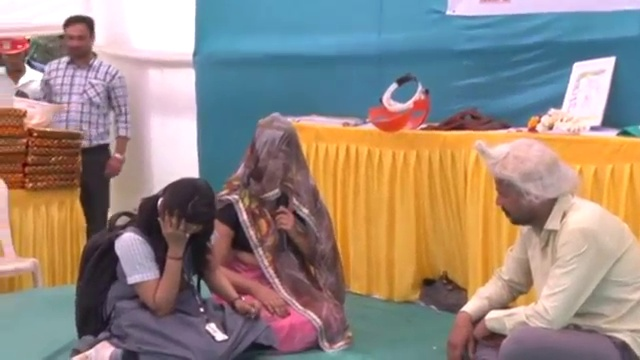helmet: (12, 95, 68, 129), (1, 35, 34, 59)
helmet_off: (486, 145, 572, 236), (145, 181, 213, 244), (244, 117, 302, 189), (51, 13, 98, 59)
helmet_on: (0, 34, 34, 73)
person: (449, 139, 640, 360), (204, 117, 345, 348), (64, 177, 241, 356), (41, 14, 132, 248), (0, 186, 37, 285), (0, 32, 46, 103)
